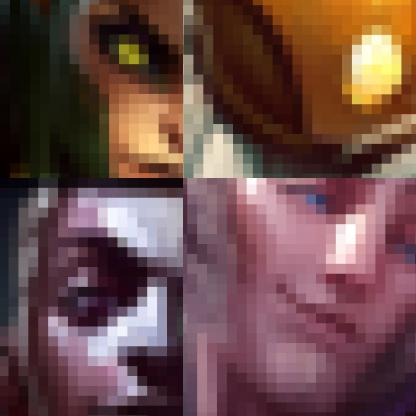Bard: (183, 0, 415, 177)
Cassiopeia: (0, 0, 182, 177)
Ekko: (0, 178, 182, 415)
Rakan: (183, 178, 415, 415)
